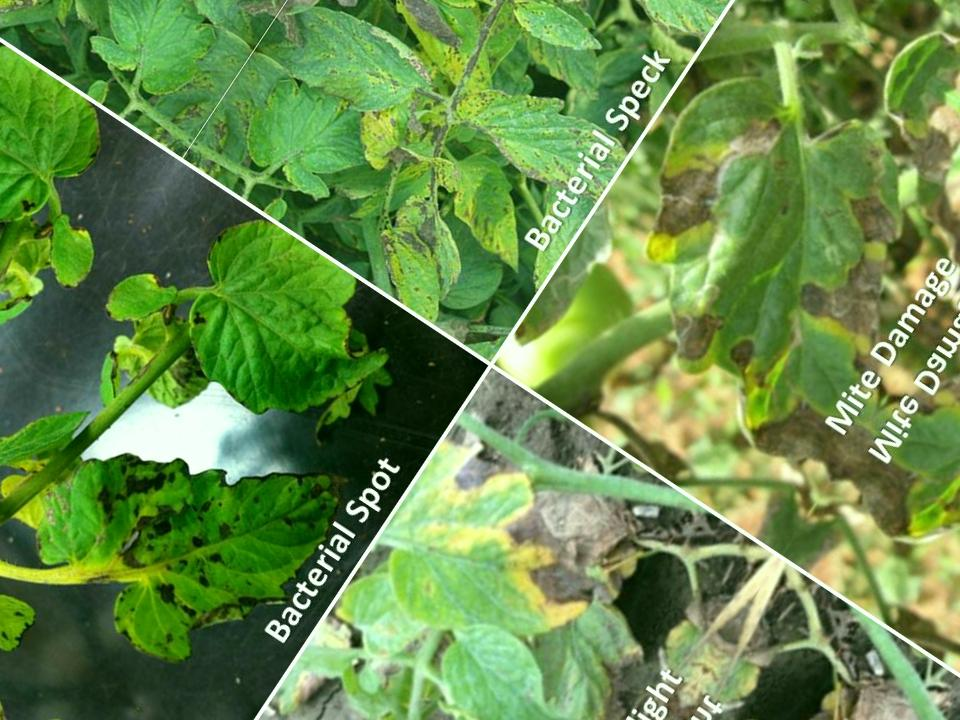Tomato leaf bacterial spot: (261, 419, 746, 720), (9, 355, 374, 718), (139, 208, 439, 498), (417, 35, 633, 228), (250, 0, 461, 163), (324, 0, 600, 65), (541, 0, 747, 79), (480, 0, 617, 80), (394, 0, 498, 27)
